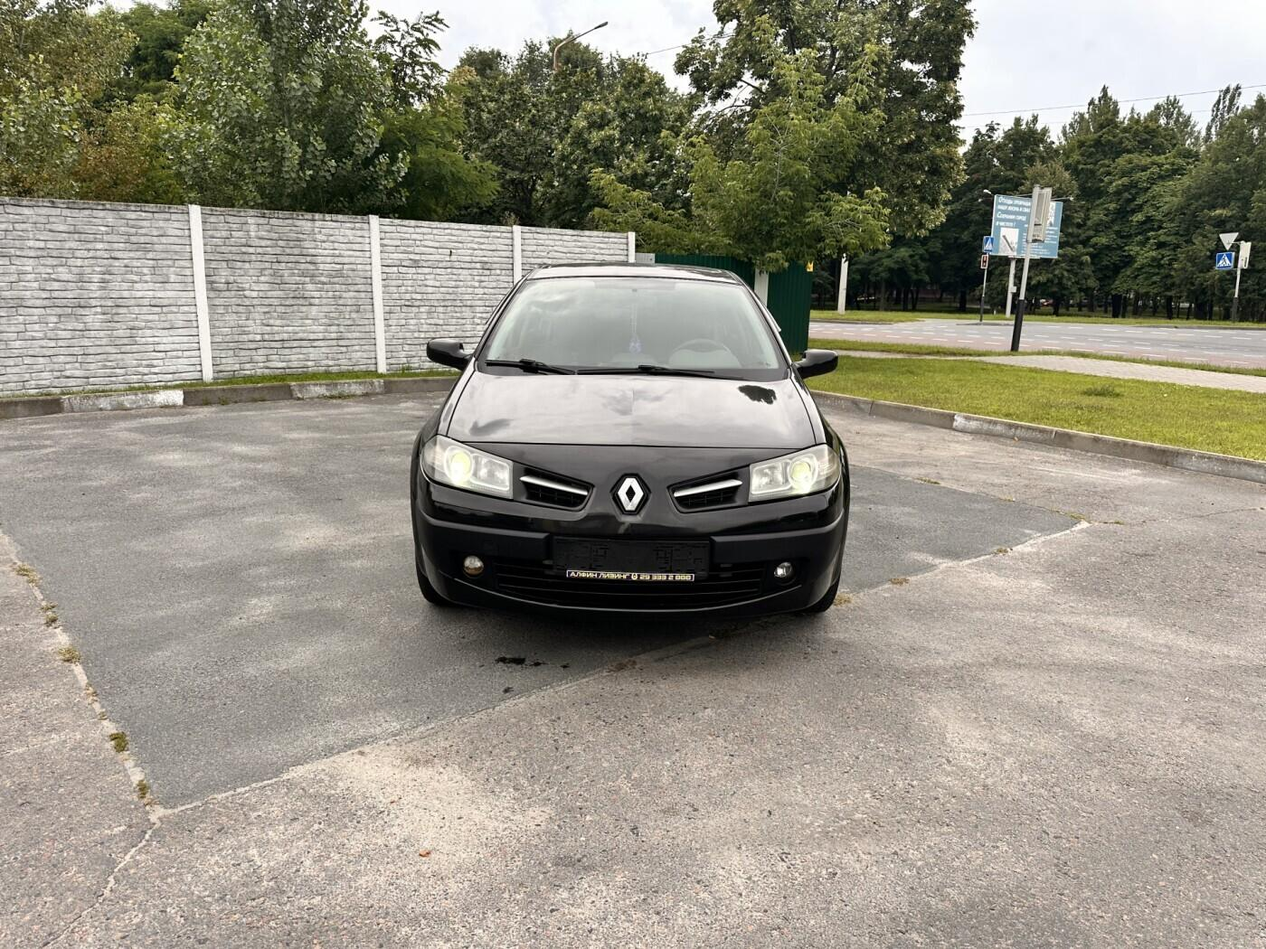Megane_2005-2009: (411, 260, 848, 647)
